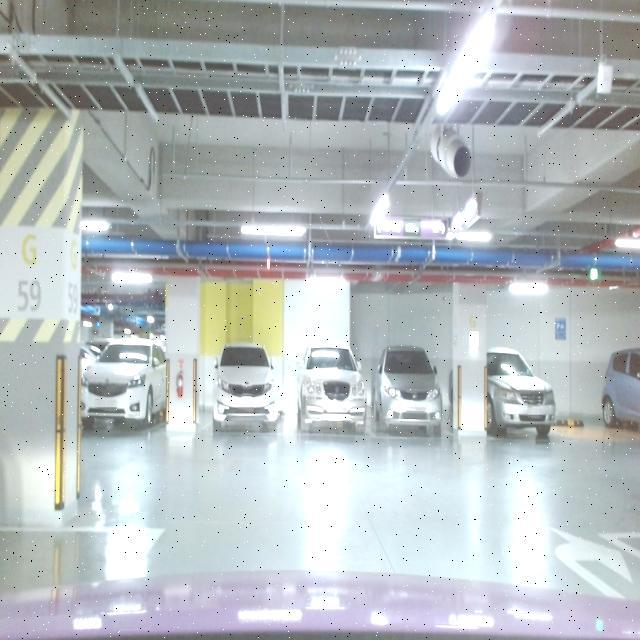occupied: (70, 324, 172, 426), (294, 337, 366, 439), (372, 355, 456, 439), (486, 355, 554, 451), (212, 349, 280, 442)
